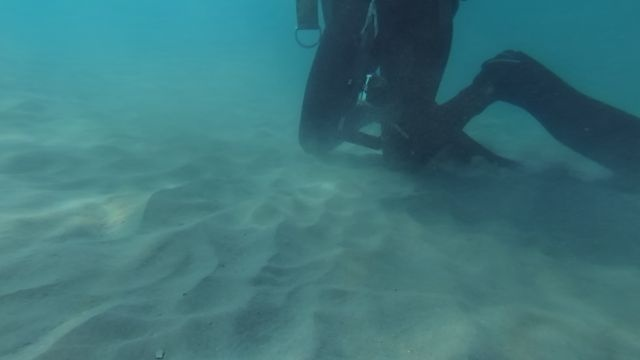Diver: (285, 2, 637, 187)
